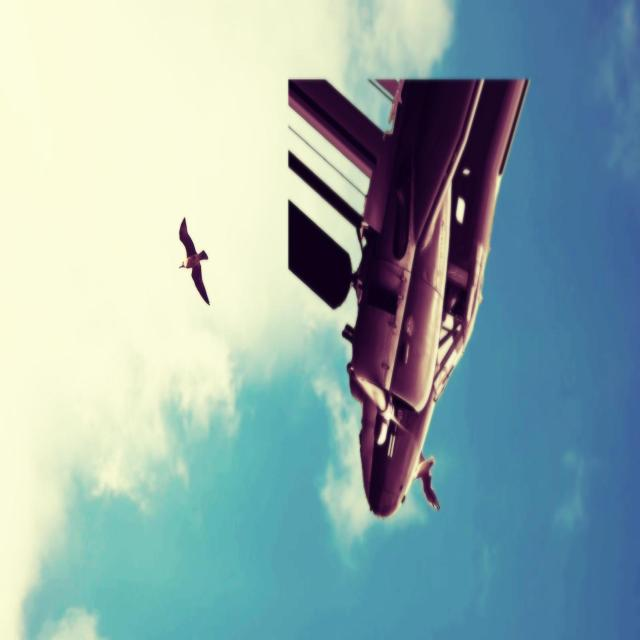airplane: (286, 74, 530, 519)
